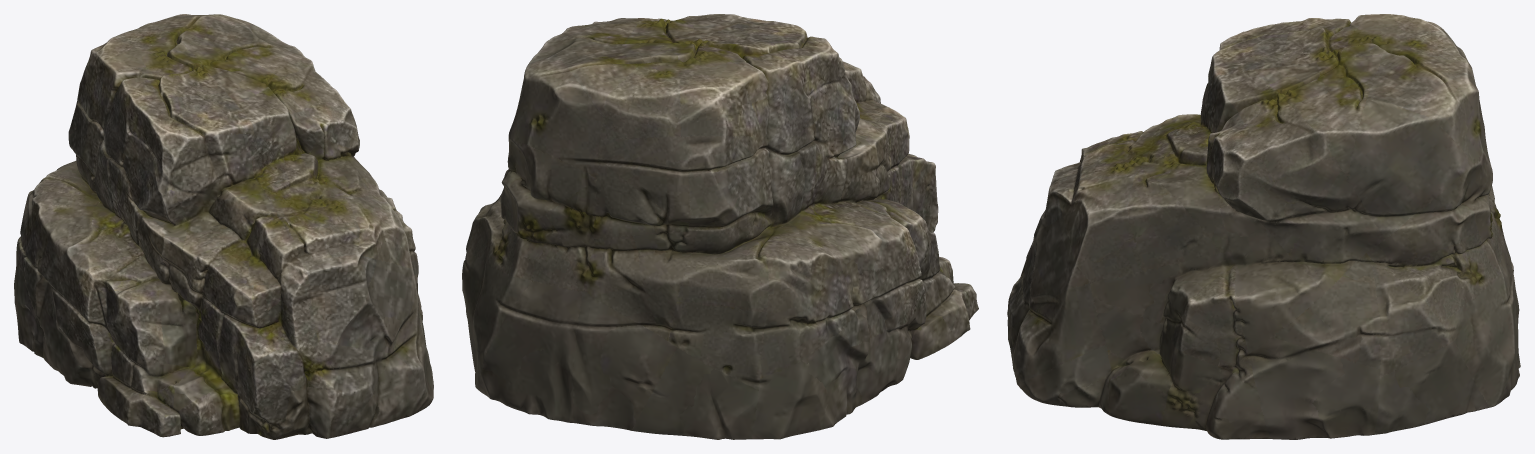
Rendered from Meshy_AI_small_rock_a_0823024857_image-to-3d-texture.glb.
3 renders of one model, left to right at view 1: azimuth 30°, elevation 25°; view 2: azimuth 150°, elevation 25°; view 3: azimuth 270°, elevation 25°, orthographic. The views are drawn at different scales.
Visible parts, largest first — view 1: mesh_node; view 2: mesh_node; view 3: mesh_node.
Boxes of the visible parts, x1=… form: mesh_node: x1=14, y1=14, x2=433, y2=439; mesh_node: x1=462, y1=14, x2=978, y2=439; mesh_node: x1=1007, y1=14, x2=1520, y2=439.
Bounding box in the file's own units: 1.57 × 1.22 × 1.9.
1 material, 1 textured.
